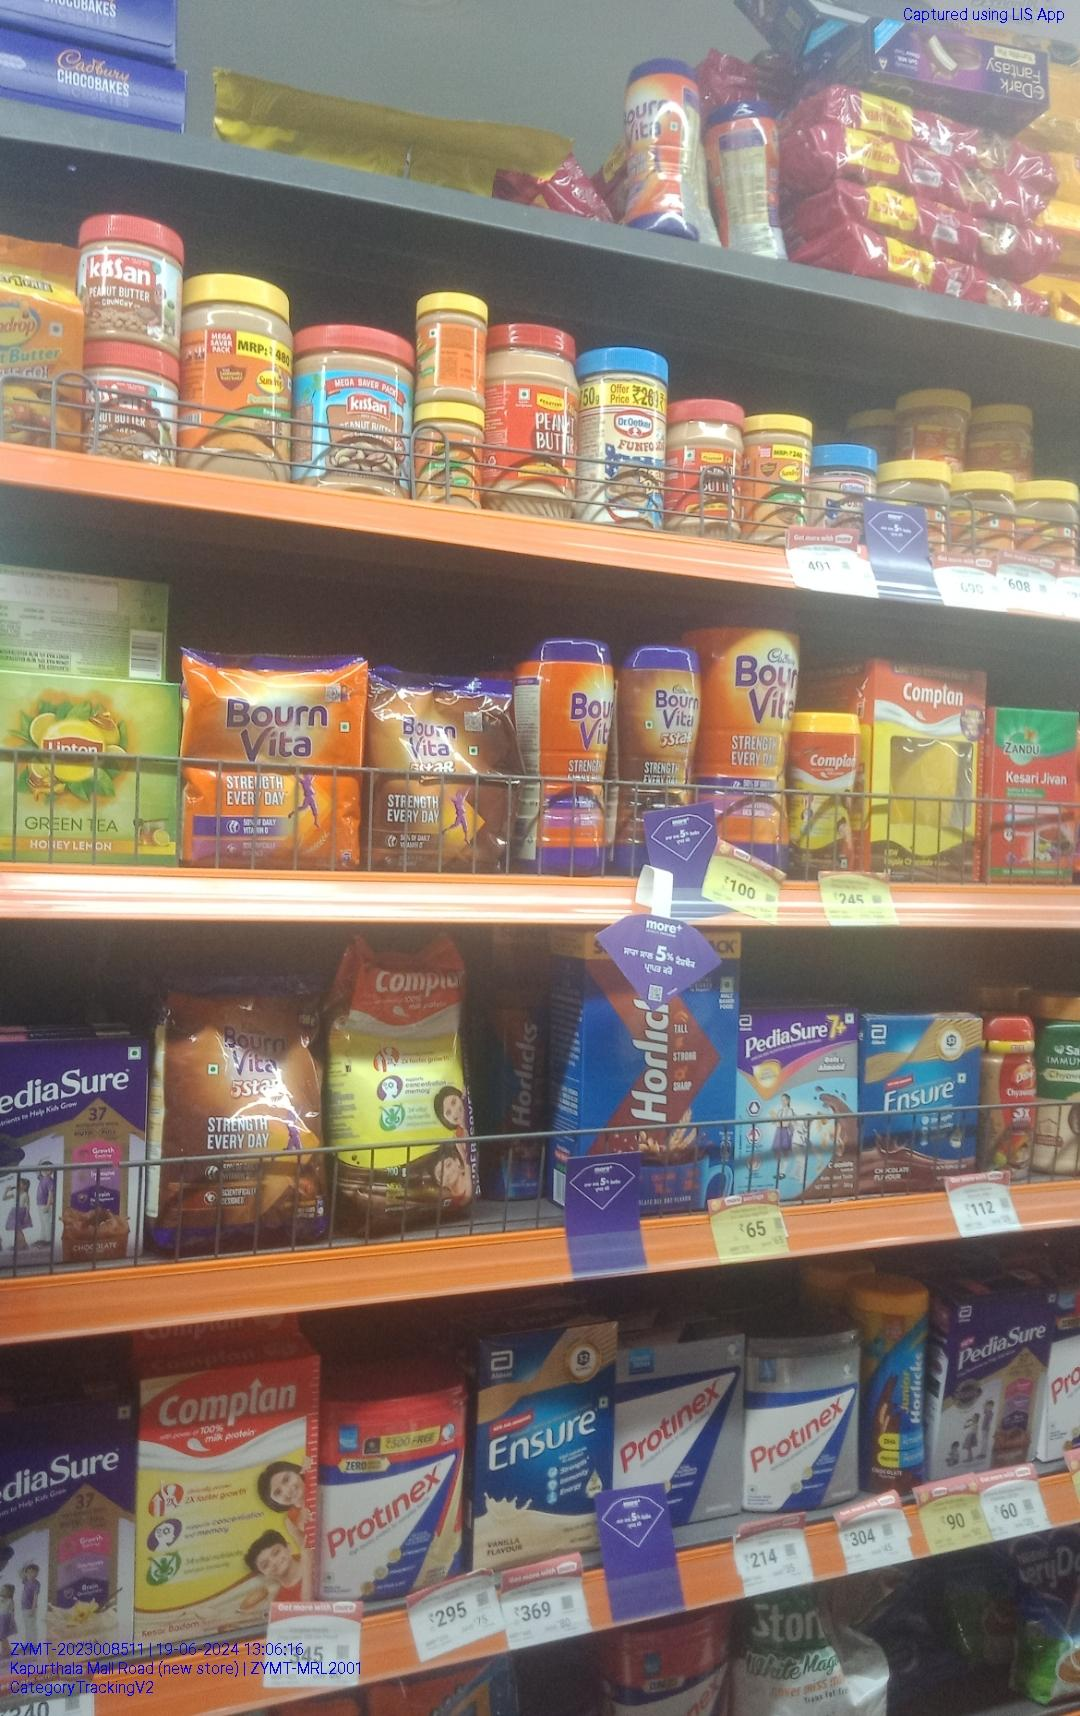BOURN_VITA_1_KG_JAR: (705, 605, 799, 887)
BOURN_VITA_500_G_JAR: (538, 633, 615, 881)
BOURN_VITA_FIVE_STAR_MAGIC_500_G_JAR: (626, 646, 697, 871)
BOURN_VITA_FIVE_STAR_MAGIC_500_G_POUCH: (373, 668, 518, 872)
BOURN_VITA_FIVE_STAR_MAGIC_750_G_POUCH: (158, 976, 321, 1256)
COMPLAN_CHOCOLATE_200_GMS_JAR: (798, 714, 861, 877)
COMPLAN_RC_POUCH_700_GMS_12: (338, 927, 470, 1222)
ENSURE_VANILLA_400_G_PACK: (477, 1336, 605, 1563)
HORLICK_CHOCOLATE_1_KG_PACK: (585, 936, 739, 1211)
PEDIASURE_7_PLUS_CHOCOLATE_400_G_PACK: (740, 1007, 854, 1201)
PEDIASURE_CHOCOLATE_500_G_PACK: (948, 1298, 1046, 1472)
PEDIASURE_VANILLA_500_G_PACK: (0, 1396, 134, 1669)
PROTINEX_ORIGINAL_400_G_JAR: (747, 1331, 857, 1509)
PROTINEX_VANILLA_400_G_JAR: (321, 1389, 469, 1610)
